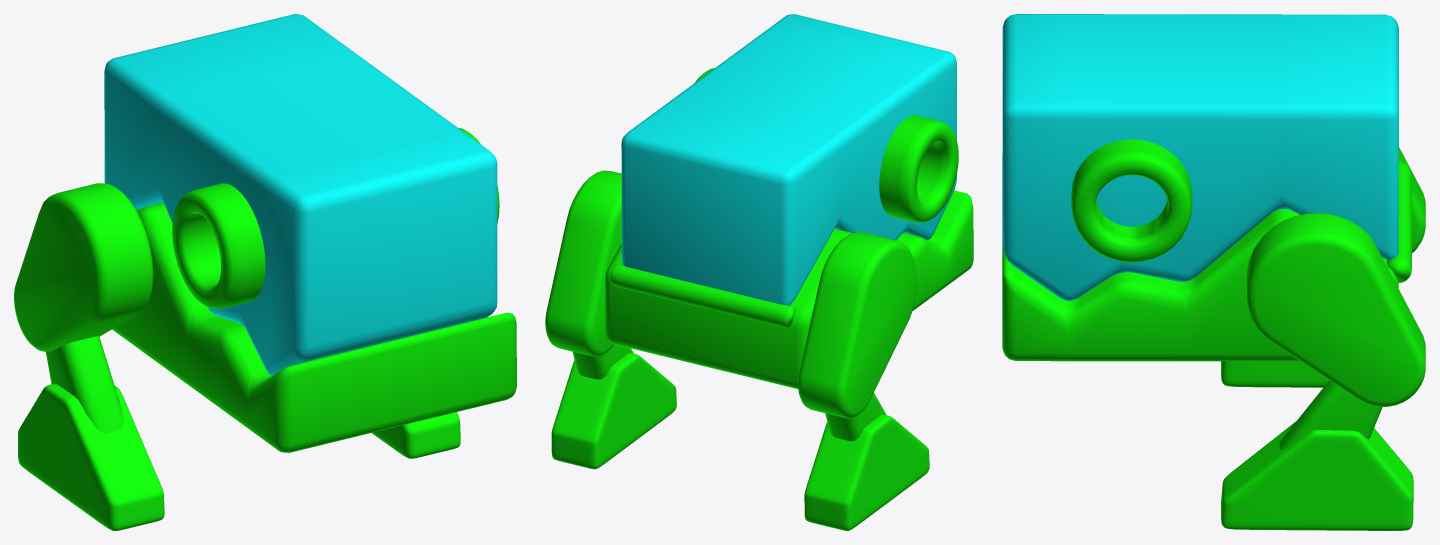
The picture shows the model from 3 angles, left to right: view 1: azimuth 30°, elevation 25°; view 2: azimuth 150°, elevation 25°; view 3: azimuth 270°, elevation 25°; orthographic projection. The views are drawn at different scales.
Visible parts, largest first — view 1: Top_Jaw, Lower_Jaw, Thighs_Left, Feet_Left, Eyes, Shin_Left, Feet_Right; view 2: Top_Jaw, Lower_Jaw, Thighs_Left, Thighs_Right, Feet_Left, Feet_Right, Eyes, Hinge, Shin_Left, Shin_Right; view 3: Top_Jaw, Thighs_Right, Lower_Jaw, Feet_Right, Eyes, Shin_Right, Feet_Left, Hinge, Thighs_Left.
Part boxes in pixels (bbox=[...]): Top_Jaw: bbox=[104, 14, 497, 375]; Lower_Jaw: bbox=[112, 202, 516, 452]; Thighs_Left: bbox=[14, 183, 153, 351]; Feet_Left: bbox=[18, 383, 164, 530]; Eyes: bbox=[172, 128, 499, 308]; Shin_Left: bbox=[46, 336, 123, 433]; Feet_Right: bbox=[372, 412, 460, 458]; Top_Jaw: bbox=[621, 14, 956, 305]; Lower_Jaw: bbox=[605, 190, 973, 388]; Thighs_Left: bbox=[798, 232, 916, 418]; Thighs_Right: bbox=[545, 170, 621, 356]; Feet_Left: bbox=[804, 414, 929, 530]; Feet_Right: bbox=[551, 352, 676, 469]; Eyes: bbox=[695, 68, 958, 222]; Hinge: bbox=[610, 264, 796, 327]; Shin_Left: bbox=[825, 393, 886, 441]; Shin_Right: bbox=[572, 344, 633, 379]; Top_Jaw: bbox=[1002, 14, 1398, 300]; Thighs_Right: bbox=[1247, 213, 1425, 406]; Lower_Jaw: bbox=[1002, 209, 1398, 361]; Feet_Right: bbox=[1221, 421, 1413, 530]; Eyes: bbox=[1071, 139, 1192, 262]; Shin_Right: bbox=[1279, 380, 1382, 449]; Feet_Left: bbox=[1221, 361, 1328, 387]; Hinge: bbox=[1387, 161, 1411, 282]; Thighs_Left: bbox=[1398, 147, 1425, 252].
Size of the model in its own units: 2.03 by 2.18 by 2.13.
